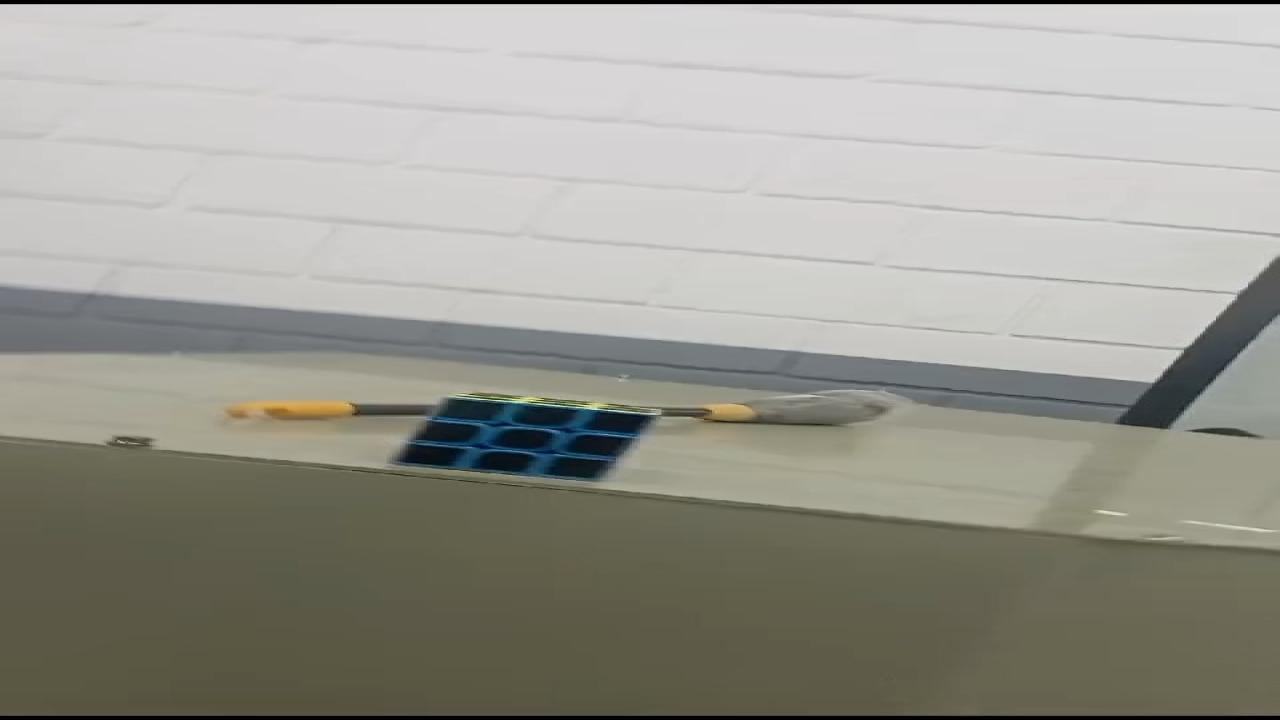Cube: (384, 391, 664, 482)
